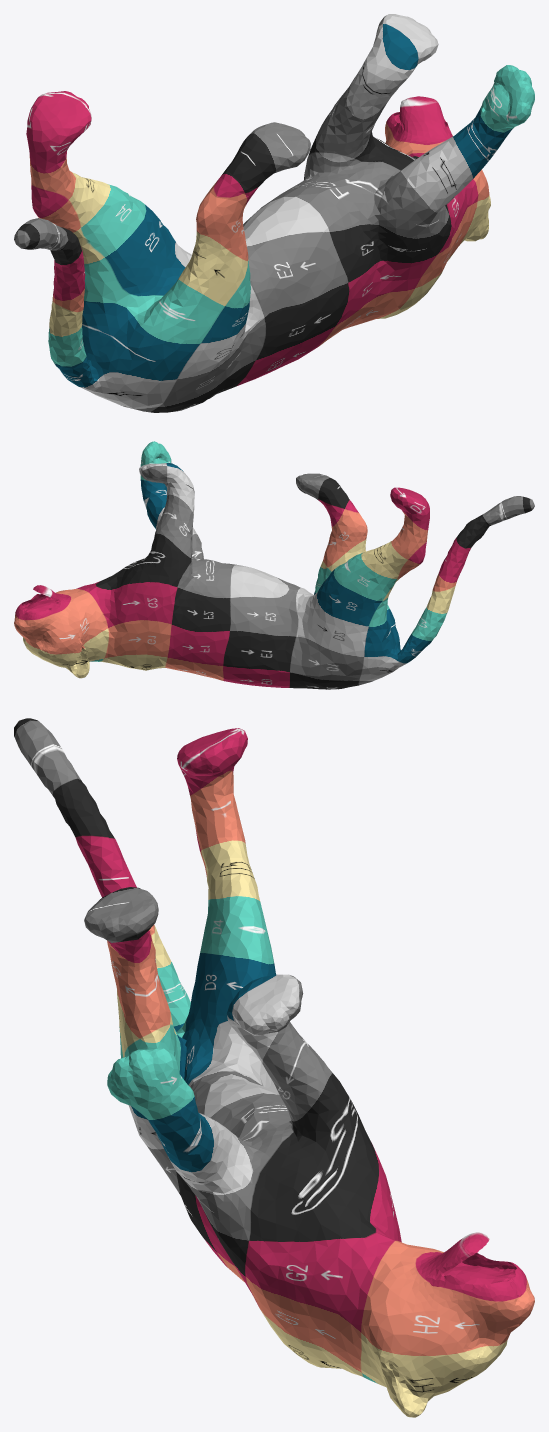
Rendered from cougar_02-cougar_04.obj.
3 views of the same model, one above another, from view 1: azimuth 30°, elevation 25°; view 2: azimuth 150°, elevation 25°; view 3: azimuth 270°, elevation 25° (orthographic). The views are drawn at different scales.
Parts seen in each view (by area): view 1: cougar_02-cougar_04_export; view 2: cougar_02-cougar_04_export; view 3: cougar_02-cougar_04_export.
Part boxes in pixels (x1,y1,x2,y2): cougar_02-cougar_04_export: (14, 14, 534, 412); cougar_02-cougar_04_export: (14, 441, 534, 689); cougar_02-cougar_04_export: (14, 718, 534, 1417).
Size of the model in its own units: 1.06 by 0.5502 by 0.6287.
